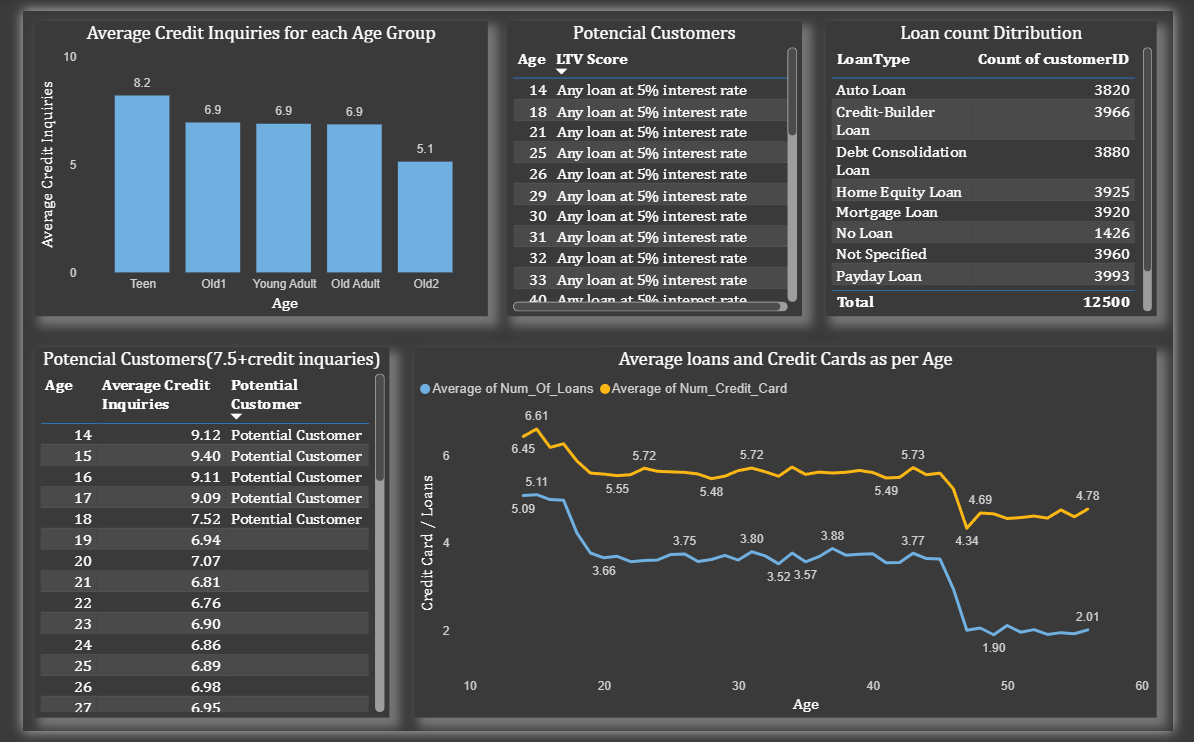

The dashboard page shown, as its layout file describes it:
{"tool":"powerbi","page":{"name":"Page 2","canvas":[1150,720],"ordinal":1},"visuals":[{"type":"columnChart","title":"Average Credit Inquiries for each Age Group","fields":{"Category":["combined_df.Age Groups"],"Y":["Table.AverageCredtInquiries"]},"box":[11.2,10,453.8,295],"z":0},{"type":"tableEx","title":"Potencial Customers","fields":{"Values":["combined_df.Age","Table.AverageCredtInquiries","Table.Ptential Customer"]},"box":[11.2,336.2,355,370],"z":1000},{"type":"lineChart","title":"Average loans and Credit Cards as per Age ","fields":{"Y":["Avg(combined_df.Num_Of_Loans)","Avg(combined_df.Num_Credit_Card)"],"Category":["combined_df.Age"]},"box":[391.2,336.2,742.5,370],"z":2000},{"type":"tableEx","title":"Potencial Customers","fields":{"Values":["combined_df.Age","Table.LTV Score"]},"box":[483.8,10,295,295],"z":3000},{"type":"tableEx","title":"Loan count Ditribution","fields":{"Values":["LoanTypeTable.LoanType","LoanTypeTable.customerID"]},"box":[802.5,10,331.2,295],"z":4000}]}

Visuals, with their boxes in screenshot pixels (x1, y1, x2, y2), scaled from the page's 1150x720 canvas onto the 1194x742 screenshot:
"Average Credit Inquiries for each Age Group" columnChart: (x1=12, y1=10, x2=483, y2=314)
"Potencial Customers" tableEx: (x1=12, y1=346, x2=380, y2=728)
"Average loans and Credit Cards as per Age " lineChart: (x1=406, y1=346, x2=1177, y2=728)
"Potencial Customers" tableEx: (x1=502, y1=10, x2=809, y2=314)
"Loan count Ditribution" tableEx: (x1=833, y1=10, x2=1177, y2=314)
